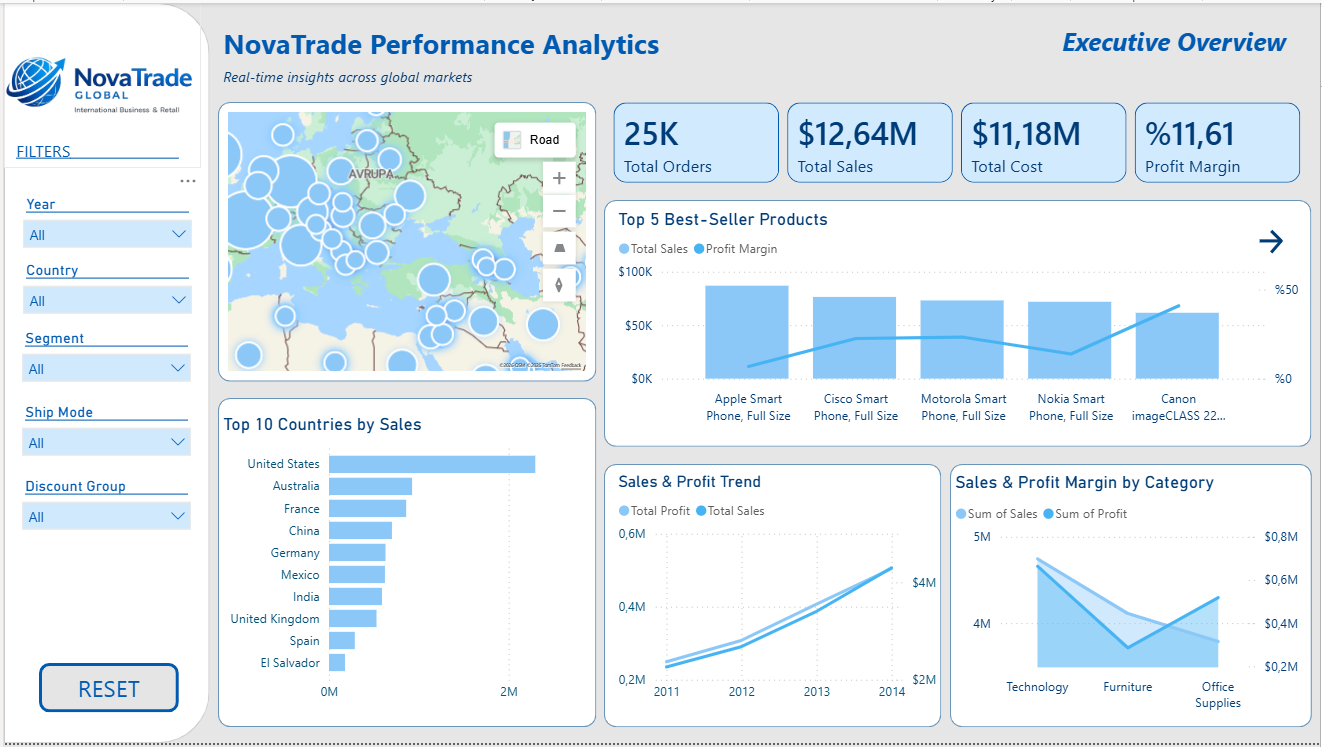

Layout of this report page (visuals, bound fields, positions):
{"tool":"powerbi","page":{"name":"Executive Overview","canvas":[1280,720],"ordinal":0},"visuals":[{"type":"shape","box":[0,0,200,720],"z":0},{"type":"image","box":[0,0,192,160],"z":1000},{"type":"textbox","box":[6.9,127.7,168,56],"z":2000},{"type":"actionButton","box":[34,642,136,48],"z":3000},{"type":"textbox","box":[208,16,456,72],"z":4000},{"type":"textbox","box":[208,56,504,40],"z":5000},{"type":"shape","box":[208,96,368,272],"z":6000},{"type":"shape","box":[208,384,368,320],"z":7000},{"type":"shape","box":[584,192,688,240],"z":8000},{"type":"cardVisual","fields":{"Data":["Sheet1.Total Orders","Sheet1.Total Sales","Sheet1.Total Cost","Sheet1.Profit Margin"]},"box":[576,80,704,112],"z":9000},{"type":"shape","box":[584,448,328,256],"z":10000},{"type":"textbox","box":[1024,16,240,48],"z":11000},{"type":"clusteredBarChart","title":"Top 10 Countries by Sales","fields":{"Category":["Sheet1.Country"],"Y":["Sum(Sheet1.Sales)"]},"box":[208,400,384,288],"z":12000},{"type":"lineChart","title":"Sales & Profit Trend","fields":{"Category":["Dates.Date.Variation.Date Hierarchy.Year"],"Y2":["Sheet1.Total Sales"],"Y":["Sheet1.Total Profit"]},"box":[592,456,320,232],"z":13000},{"type":"shape","box":[920,448,352,256],"z":14000},{"type":"areaChart","title":"Sales & Profit Margin by Category","fields":{"Category":["Sheet1.Category"],"Y":["Sum(Sheet1.Sales)"],"Y2":["Sum(Sheet1.Profit)"]},"box":[920,456,344,240],"z":15000},{"type":"slicer","fields":{"Values":["Dates.Date.Variation.Date Hierarchy.Year"]},"box":[8.8,182,184,64],"z":16000},{"type":"slicer","fields":{"Values":["Sheet1.Segment"]},"box":[8,312,184,64],"z":17000},{"type":"slicer","fields":{"Values":["Sheet1.Ship Mode"]},"box":[8,384,184,64],"z":18000},{"type":"slicer","fields":{"Values":["Sheet1.Country"]},"box":[8.8,246,184,64],"z":19000},{"type":"slicer","fields":{"Values":["Sheet1.Discount Group"]},"box":[8,456,184,64],"z":20000},{"type":"lineClusteredColumnComboChart","title":"Top 5 Best-Seller Products","fields":{"Category":["Sheet1.Product Name"],"Y":["Sheet1.Total Sales"],"Y2":["Sheet1.Profit Margin"]},"box":[592,200,672,216],"z":21000},{"type":"actionButton","box":[1216,208,32,48],"z":22000},{"type":"azureMap","fields":{"Size":["Sum(Sheet1.Sales)"],"Category":["Sheet1.Country"]},"box":[208,96,368,272],"z":25000}]}

Visuals, with their boxes in screenshot pixels (x1, y1, x2, y2), scaled from the page's 1280x720 canvas onto the 1322x747 screenshot:
shape: [0,0,207,746]
image: [0,0,198,166]
textbox: [7,132,181,191]
actionButton: [35,666,176,716]
textbox: [215,17,686,91]
textbox: [215,58,735,100]
shape: [215,100,595,382]
shape: [215,398,595,730]
shape: [603,199,1314,448]
cardVisual - Sheet1.Total Orders x Sheet1.Total Sales: [595,83,1321,199]
shape: [603,465,942,730]
textbox: [1058,17,1305,66]
"Top 10 Countries by Sales" clusteredBarChart: [215,415,611,714]
"Sales & Profit Trend" lineChart: [611,473,942,714]
shape: [950,465,1314,730]
"Sales & Profit Margin by Category" areaChart: [950,473,1305,722]
slicer - Dates.Date.Variation.Date Hierarchy.Year: [9,189,199,255]
slicer - Sheet1.Segment: [8,324,198,390]
slicer - Sheet1.Ship Mode: [8,398,198,465]
slicer - Sheet1.Country: [9,255,199,322]
slicer - Sheet1.Discount Group: [8,473,198,540]
"Top 5 Best-Seller Products" lineClusteredColumnComboChart: [611,208,1305,432]
actionButton: [1256,216,1289,266]
azureMap - Sum(Sheet1.Sales) x Sheet1.Country: [215,100,595,382]
